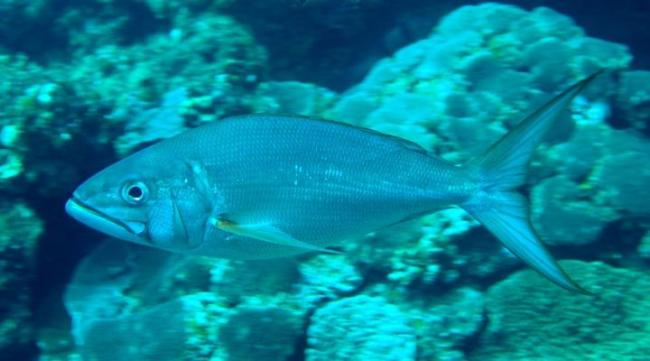fish: (67, 68, 597, 300)
